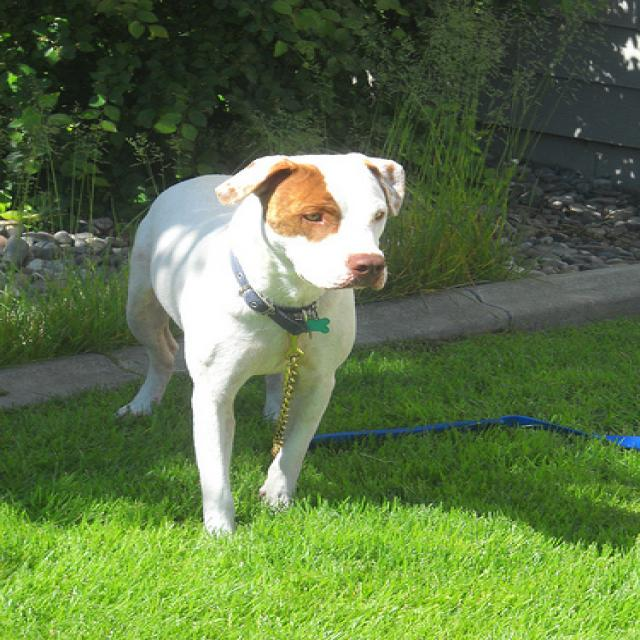dog: (213, 151, 403, 288)
